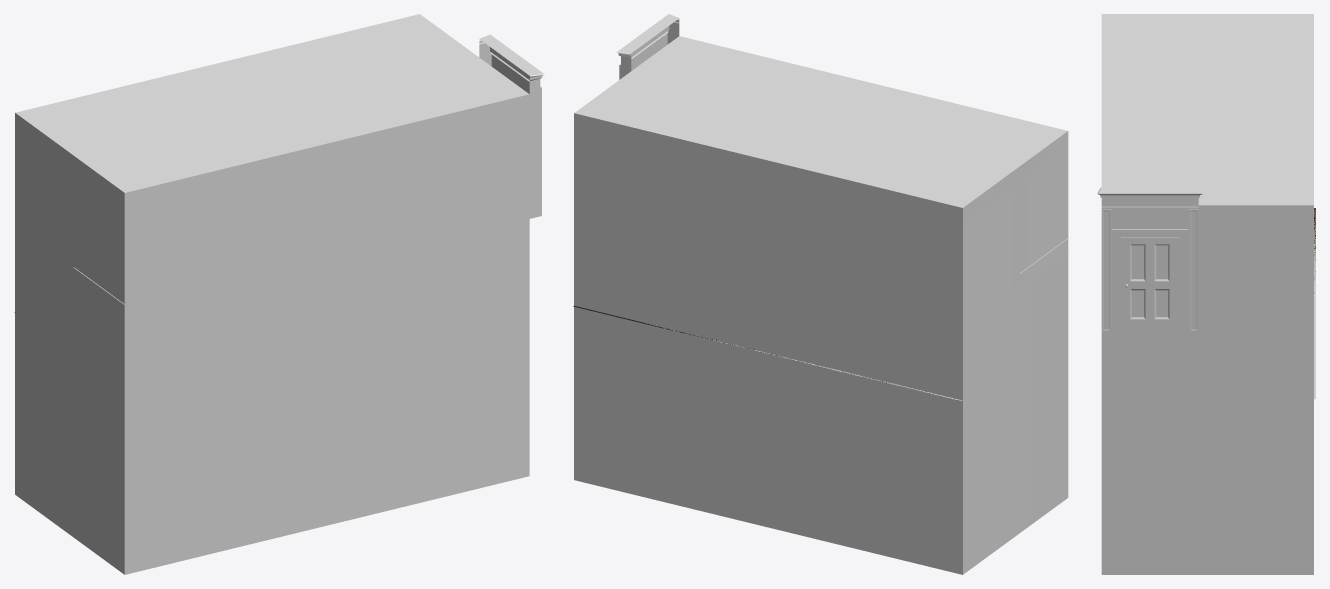
Rendered from makineOdası.fbx.
3 renders of one model, left to right at view 1: azimuth 30°, elevation 25°; view 2: azimuth 150°, elevation 25°; view 3: azimuth 270°, elevation 25°, orthographic. The views are drawn at different scales.
Parts seen in each view (by area): view 1: Cube, gotikKapıGecisi.001; view 2: Cube, gotikKapıGecisi.001; view 3: Cube, gotikKapıGecisi.001, gothikKapı.002, altOdaDis.
Part boxes in pixels (x1,y1,x2,y2): Cube: (15,14,529,574); gotikKapıGecisi.001: (479,34,544,218); Cube: (574,36,1068,574); gotikKapıGecisi.001: (617,14,679,79); Cube: (1101,14,1313,574); gotikKapıGecisi.001: (1097,187,1202,331); gothikKapı.002: (1122,239,1177,328); altOdaDis: (1314,208,1315,399).
Size of the model in its own units: 1376 by 1259 by 643.
